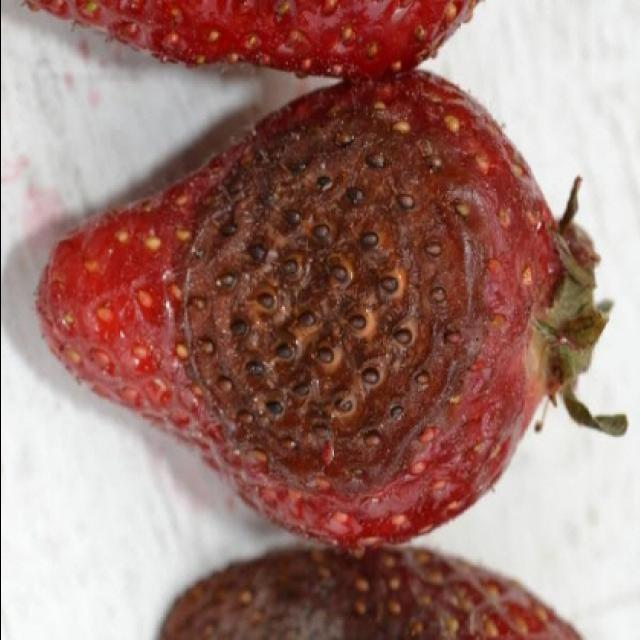Anthracnose Fruit Rot: (202, 122, 442, 478)
